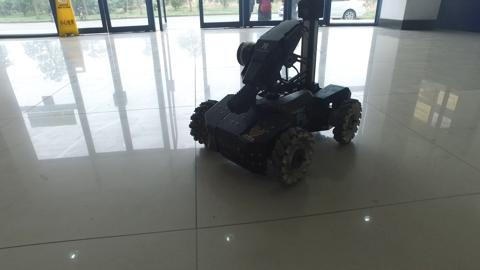car: (277, 1, 365, 21)
chariot: (187, 1, 362, 185)
